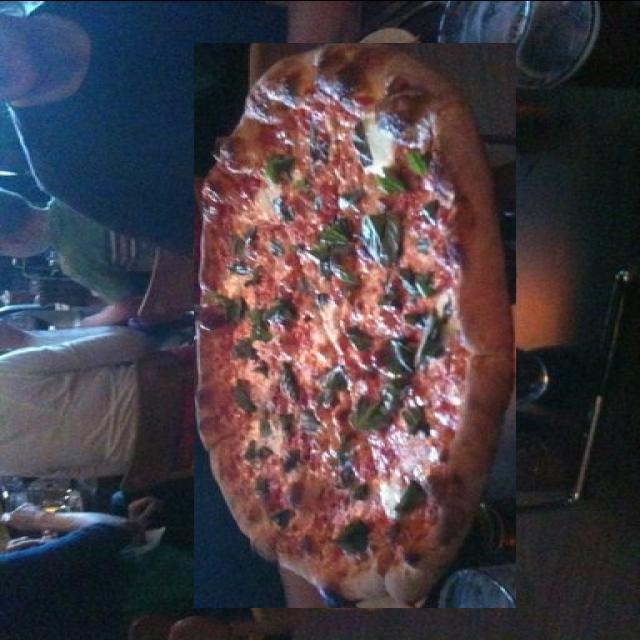basil: (350, 219, 405, 270), (361, 385, 400, 435), (412, 282, 438, 334), (395, 350, 435, 382), (318, 240, 346, 283), (315, 400, 354, 430), (333, 97, 369, 129), (388, 274, 418, 311), (374, 454, 409, 484), (333, 365, 362, 400), (305, 369, 334, 403), (308, 486, 329, 532), (352, 484, 374, 527), (246, 306, 272, 341), (263, 466, 293, 496), (228, 392, 258, 422), (396, 138, 424, 168), (212, 328, 243, 354), (280, 246, 299, 287), (227, 363, 262, 385), (243, 186, 274, 209), (271, 425, 294, 453), (264, 326, 293, 348), (345, 298, 370, 322), (233, 237, 256, 262), (402, 214, 424, 240), (337, 437, 363, 457), (406, 477, 427, 500), (301, 215, 320, 239), (423, 424, 438, 450), (276, 213, 292, 237), (282, 178, 298, 198), (256, 154, 269, 176)
pizza: (194, 42, 516, 607)
